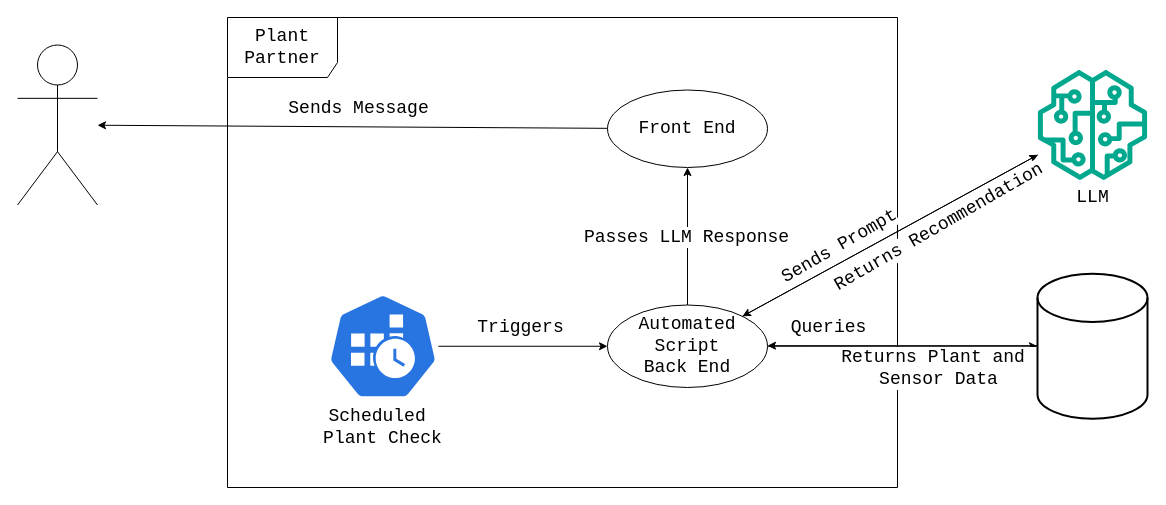
The diagram is 1166 pixels wide and 505 high, and some of its shapes have lost their labels. Each missing label, with the centre of its shape:
"Plant Partner DB" goes at point (1092, 345).
"User" goes at point (57, 124).
